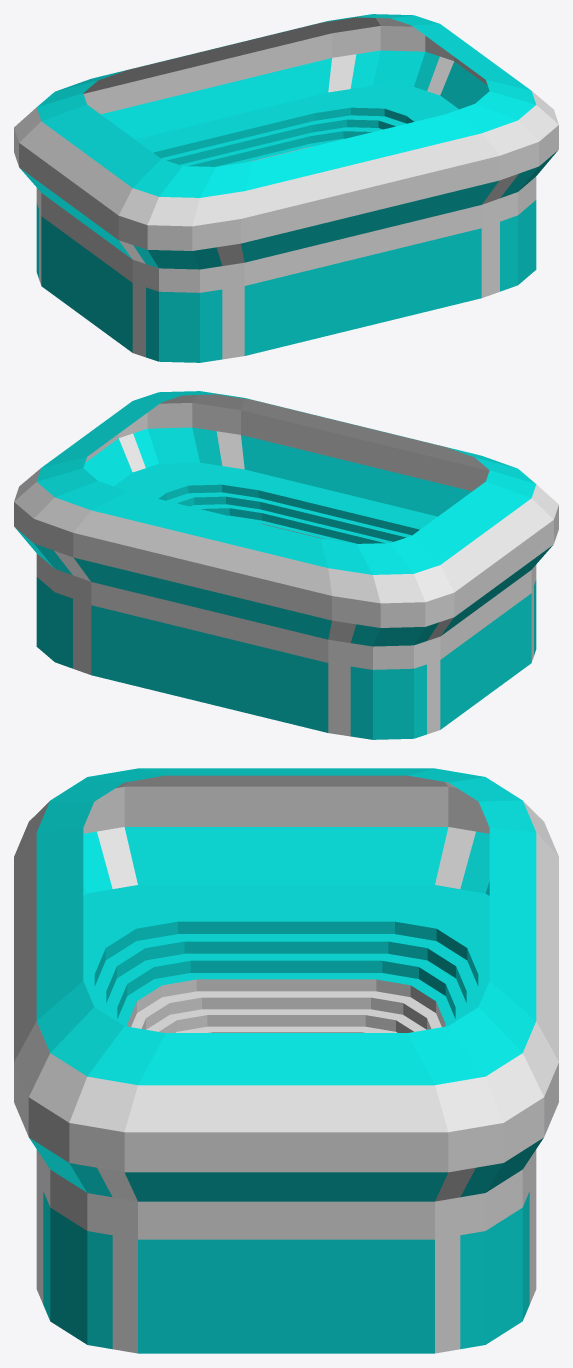
The model's file is estadioMVARG.glb.
3 views of the same model, one above another, from view 1: azimuth 30°, elevation 25°; view 2: azimuth 150°, elevation 25°; view 3: azimuth 270°, elevation 25° (orthographic). The views are drawn at different scales.
Parts seen in each view (by area): view 1: Plane.001; view 2: Plane.001; view 3: Plane.001.
Boxes of the visible parts, box(x1,y1,x2,y2) form: Plane.001: box(14, 14, 558, 362); Plane.001: box(14, 391, 558, 739); Plane.001: box(14, 768, 558, 1353).
Bounding box in the file's own units: 253 × 99.49 × 169.
